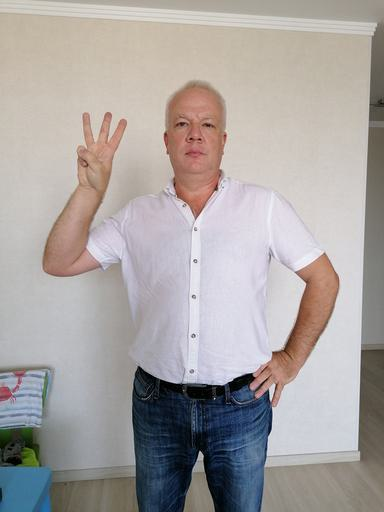three: (75, 109, 128, 193)
